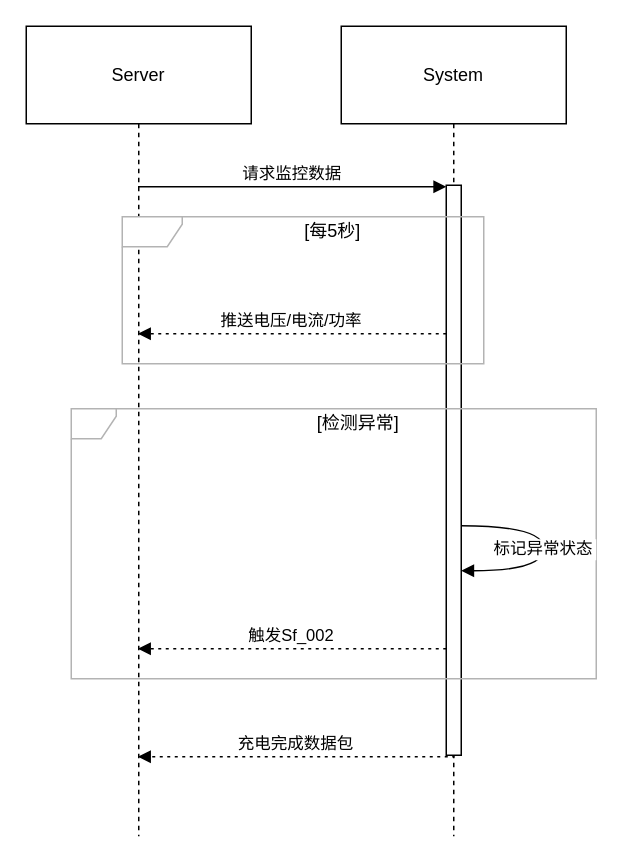
Image size: 623x863. Some labels were removed from this diagram. Here are the shapes that lost their labels. From the top down, the box of each, then its label:
(121, 215, 484, 364): loop
(70, 407, 596, 679): opt
